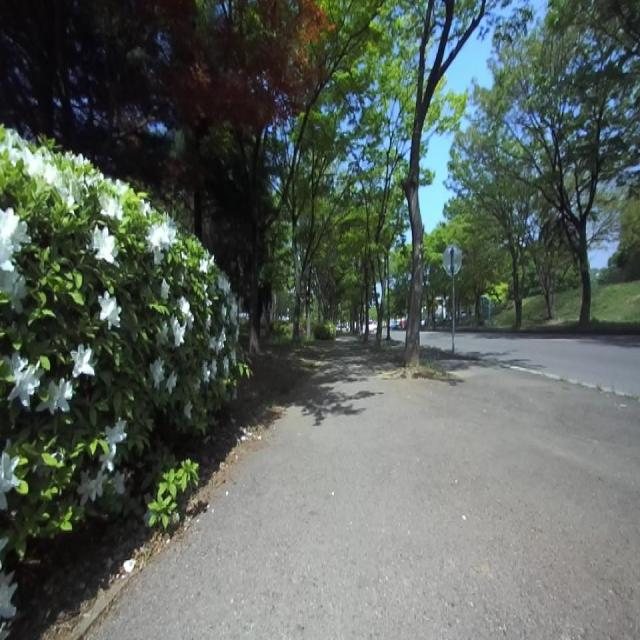sidewalk: (91, 343, 640, 639)
